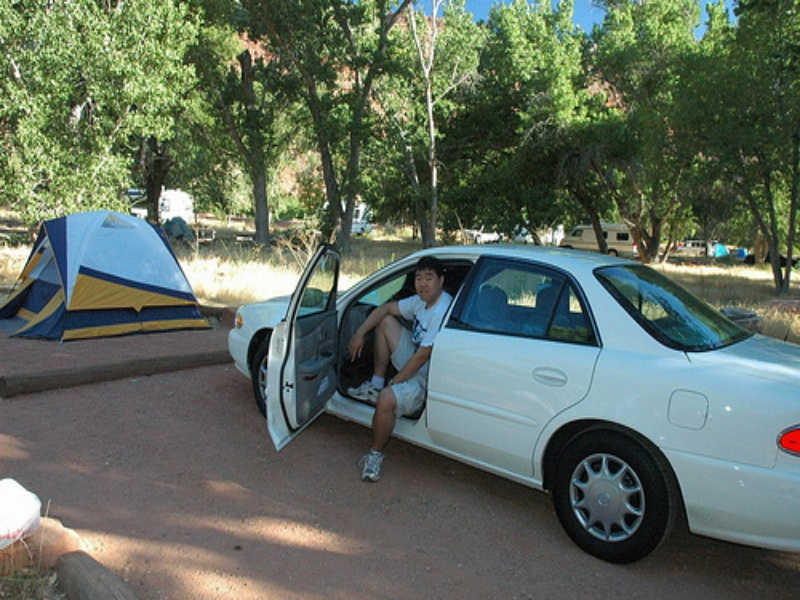car: (228, 243, 800, 566), (560, 224, 635, 258)
person: (348, 256, 452, 482)
